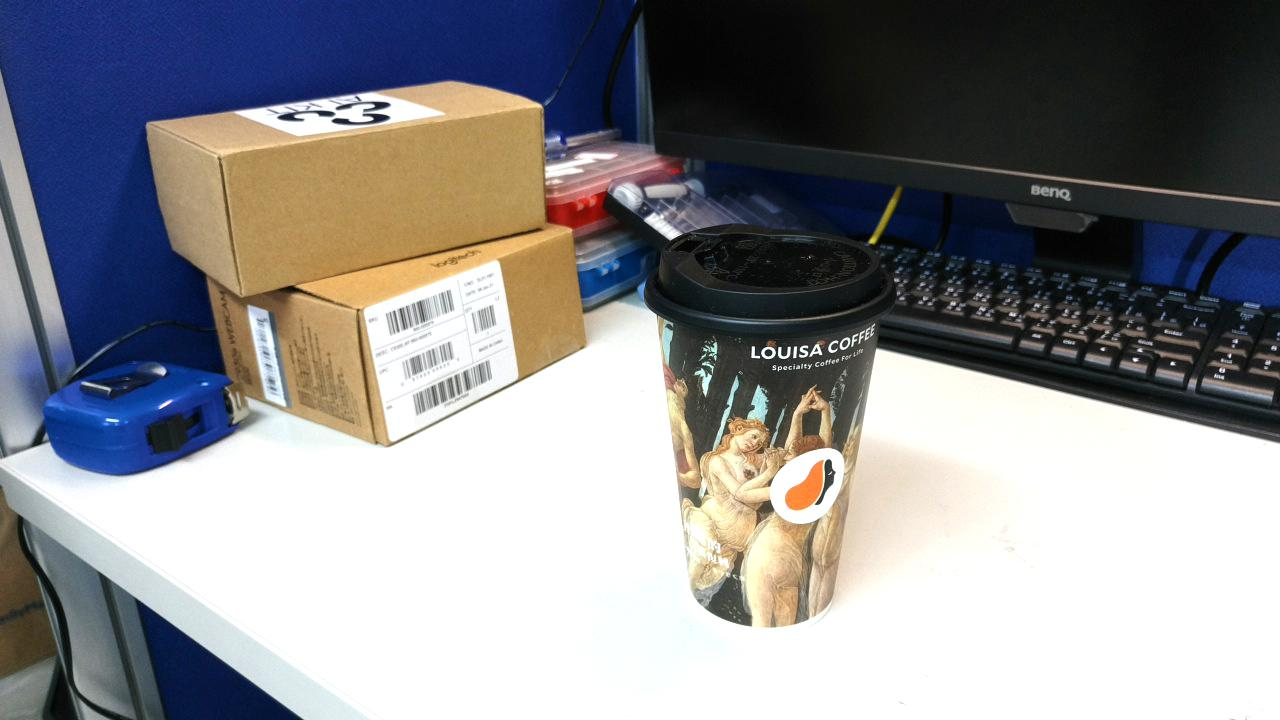columnar: (516, 69, 687, 504)
